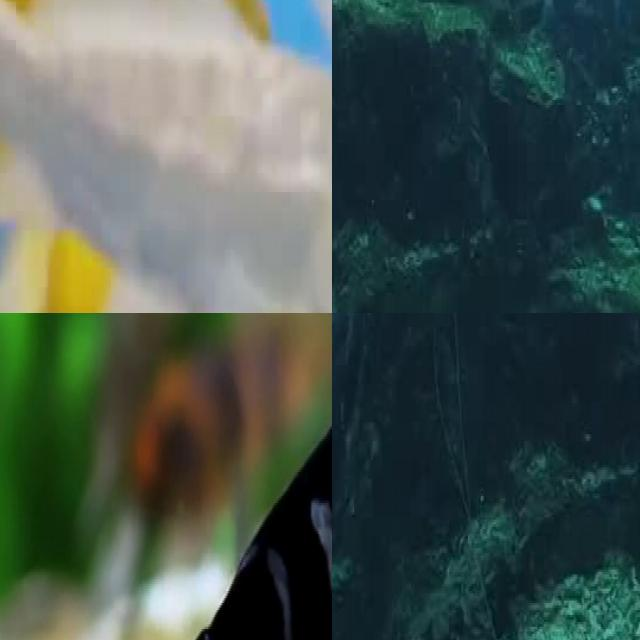fish: (0, 0, 332, 313)
